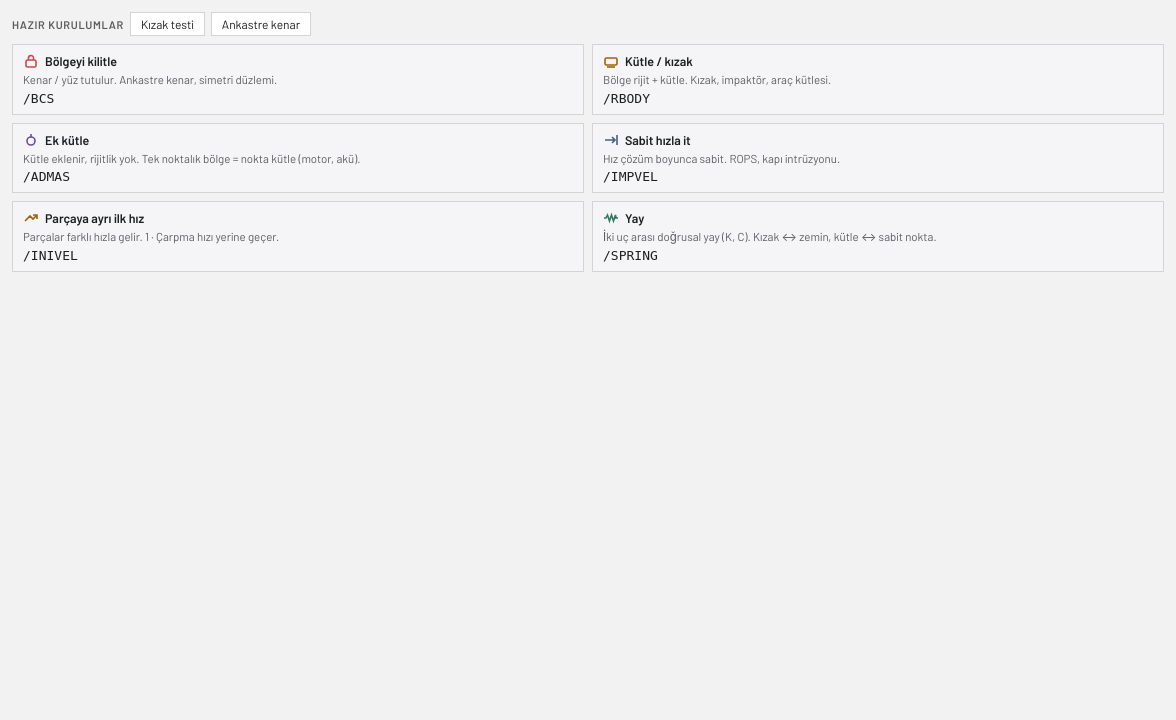
Test: CrashLoadCards › ne-zaman satırlı ekleme düğmesi; kart açık gelir, hedef çipi seçilir, kapanınca özet, silinir
Click the button with aria-label "+ Bölgeyi kilitle".
click(81, 61)  # box [12,44,584,114]
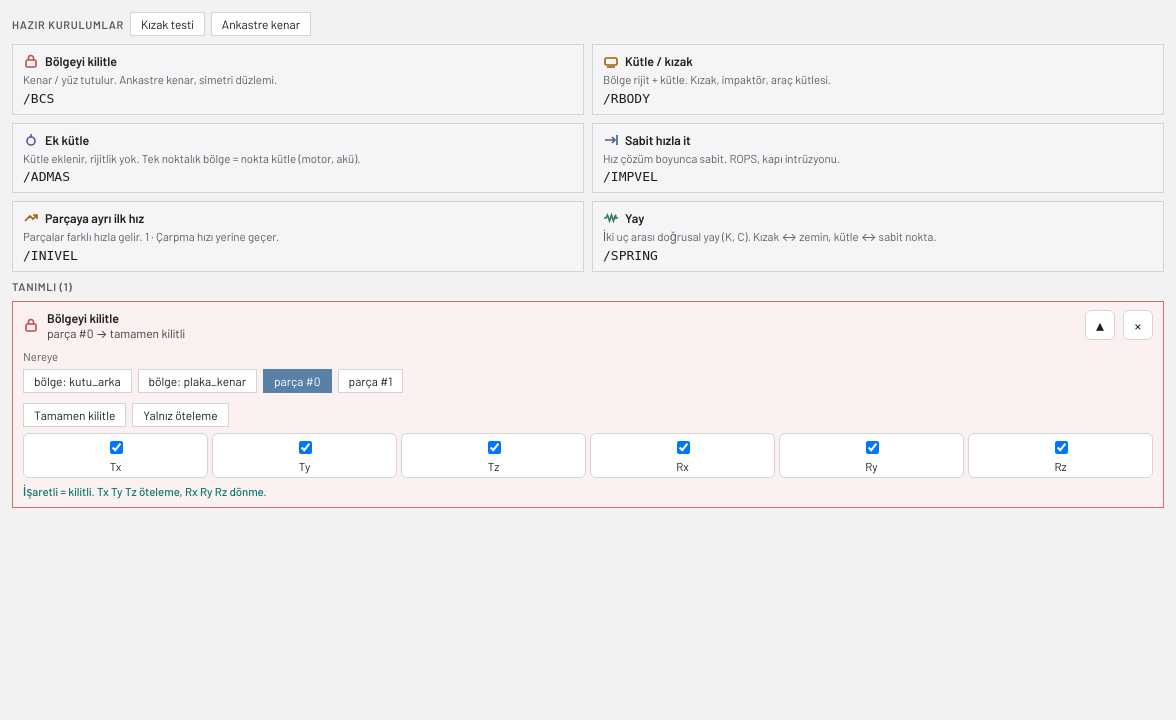
Click the button "bölge: plaka_kenar".
click(197, 380)  # box [138,368,257,392]
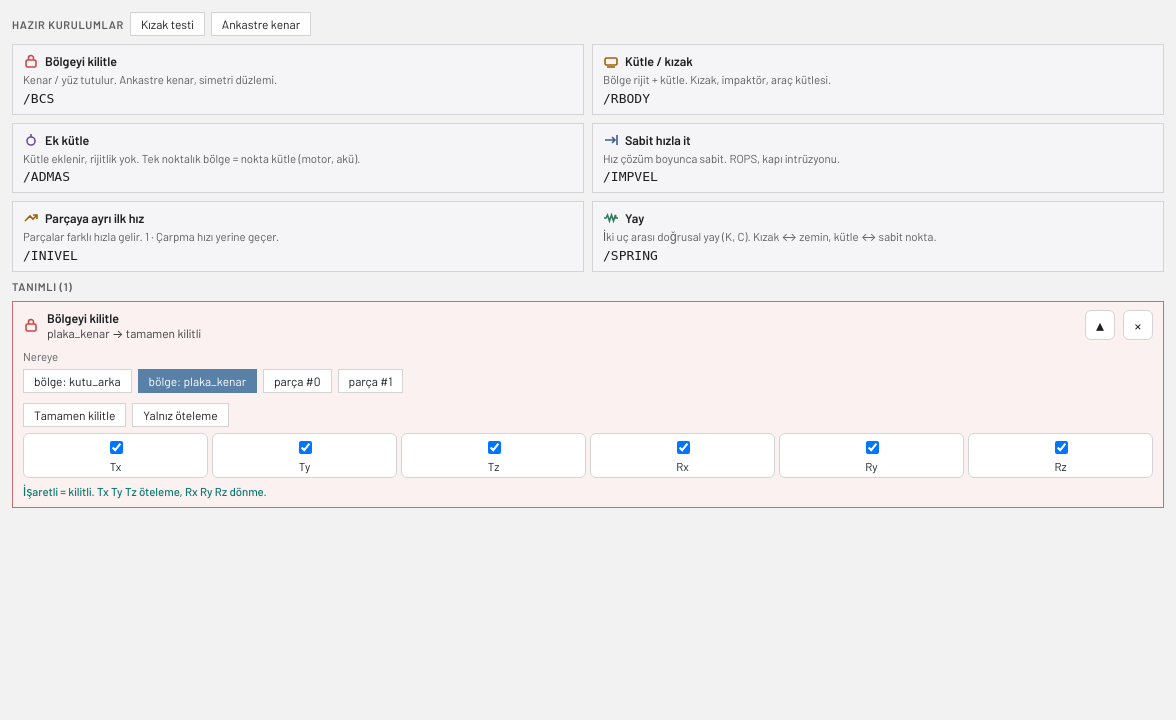
Click the checkbox named "Rz kilitli".
click(1061, 447)  # box [1054,440,1068,454]
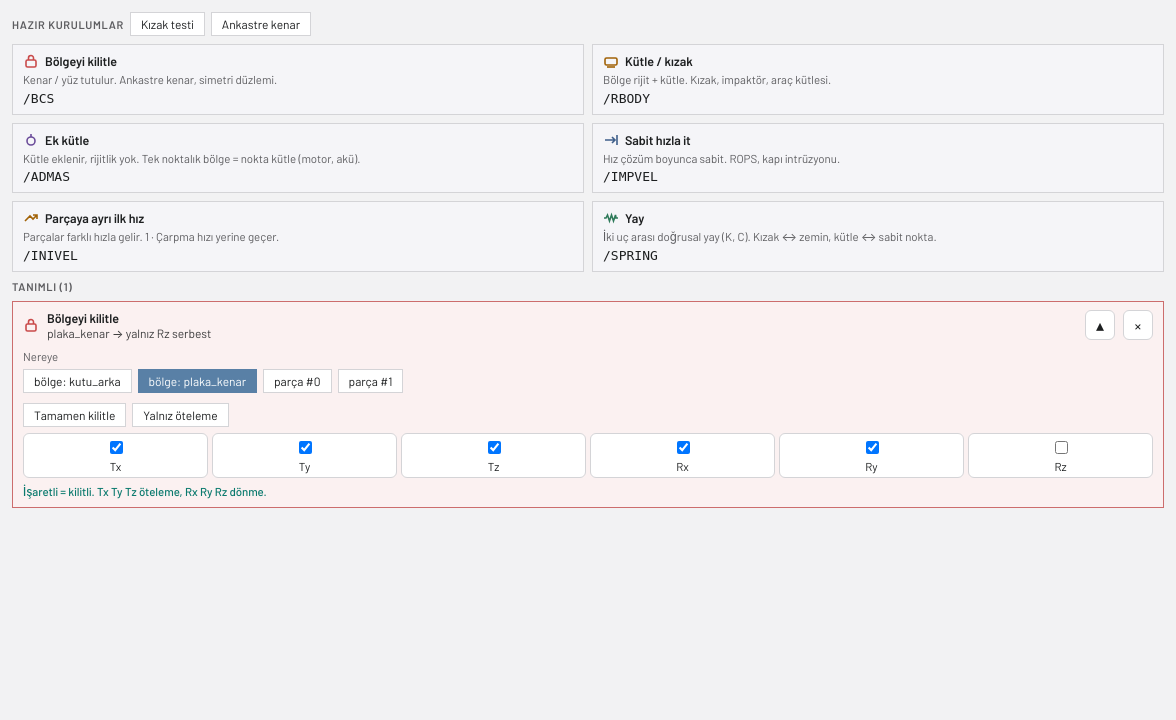
Result: the text with test id "crash-card-summary" reads "plaka_kenar → yalnız Rz serbest" at [47,326,211,340]
Click the button named "Bölgeyi kilitle #1 kapat".
click(1100, 325)  # box [1085,310,1115,340]
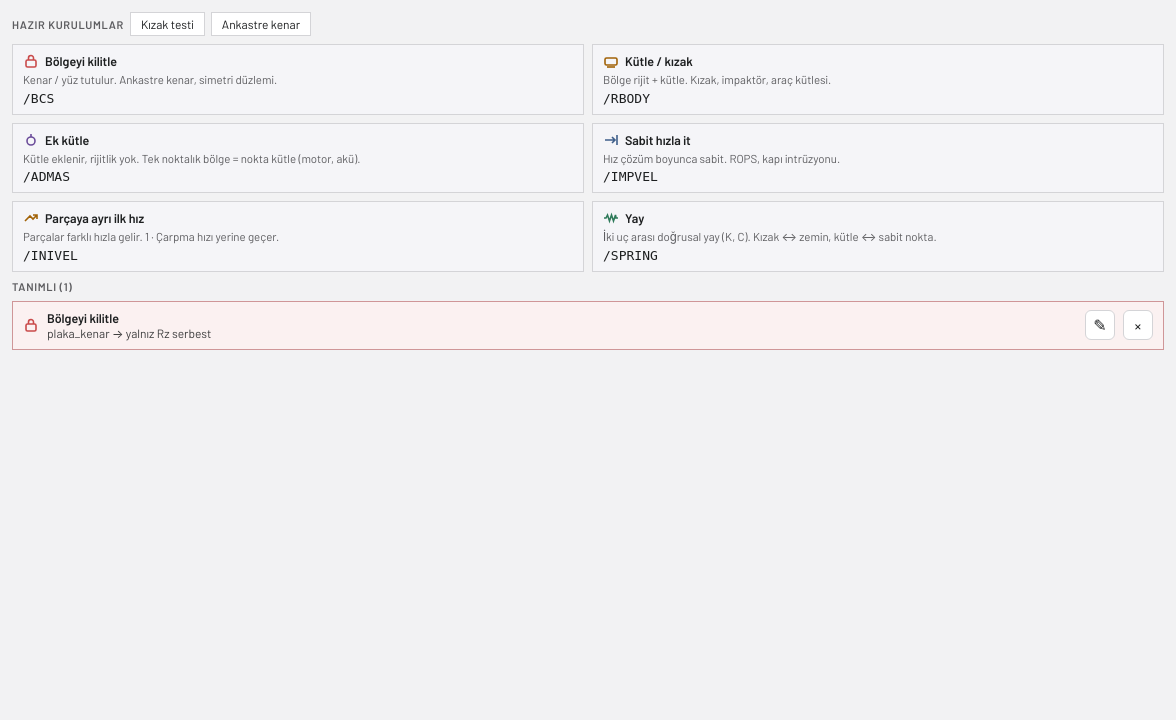
Click the button named "Bölgeyi kilitle #1 sil".
click(1138, 325)  # box [1123,310,1153,340]
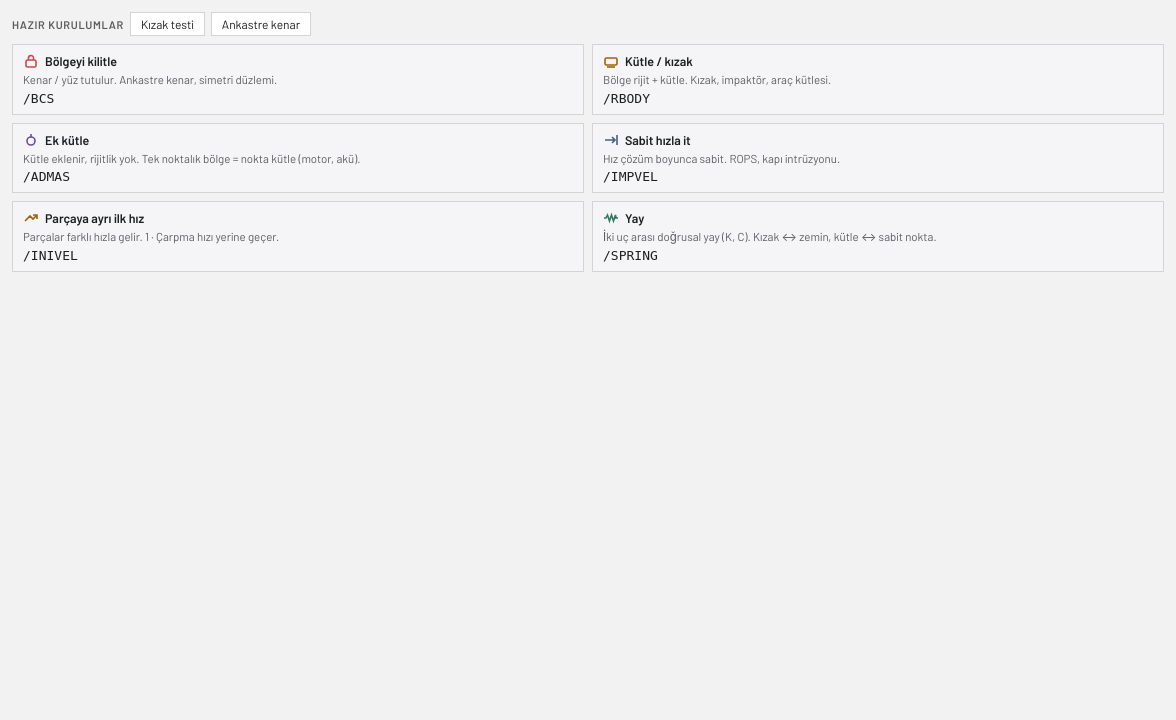
Result: the element with test id "crash-card-bcs" is gone
